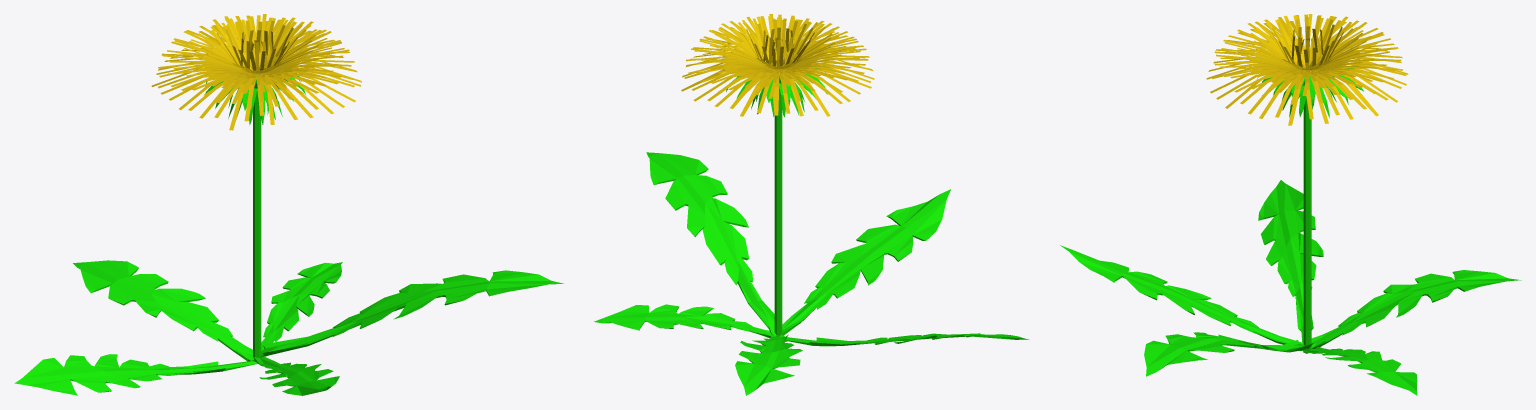
File: Dandelion_LP_1.fbx
The picture shows the model from 3 angles, left to right: view 1: azimuth 30°, elevation 25°; view 2: azimuth 150°, elevation 25°; view 3: azimuth 270°, elevation 25°; orthographic projection. The views are drawn at different scales.
Visible parts, largest first — view 1: Dandelion_LP_1.001; view 2: Dandelion_LP_1.001; view 3: Dandelion_LP_1.001.
Part boxes in pixels (box(x1,y1,x2,y2)): Dandelion_LP_1.001: box(14, 14, 563, 395); Dandelion_LP_1.001: box(594, 14, 1029, 395); Dandelion_LP_1.001: box(1060, 14, 1521, 395).
Size of the model in its own units: 273 by 177 by 233.
